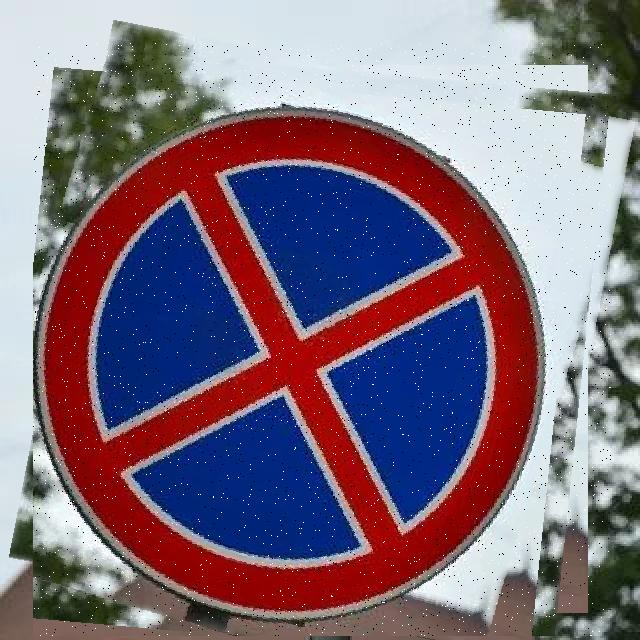no stopping: (33, 43, 611, 636)
